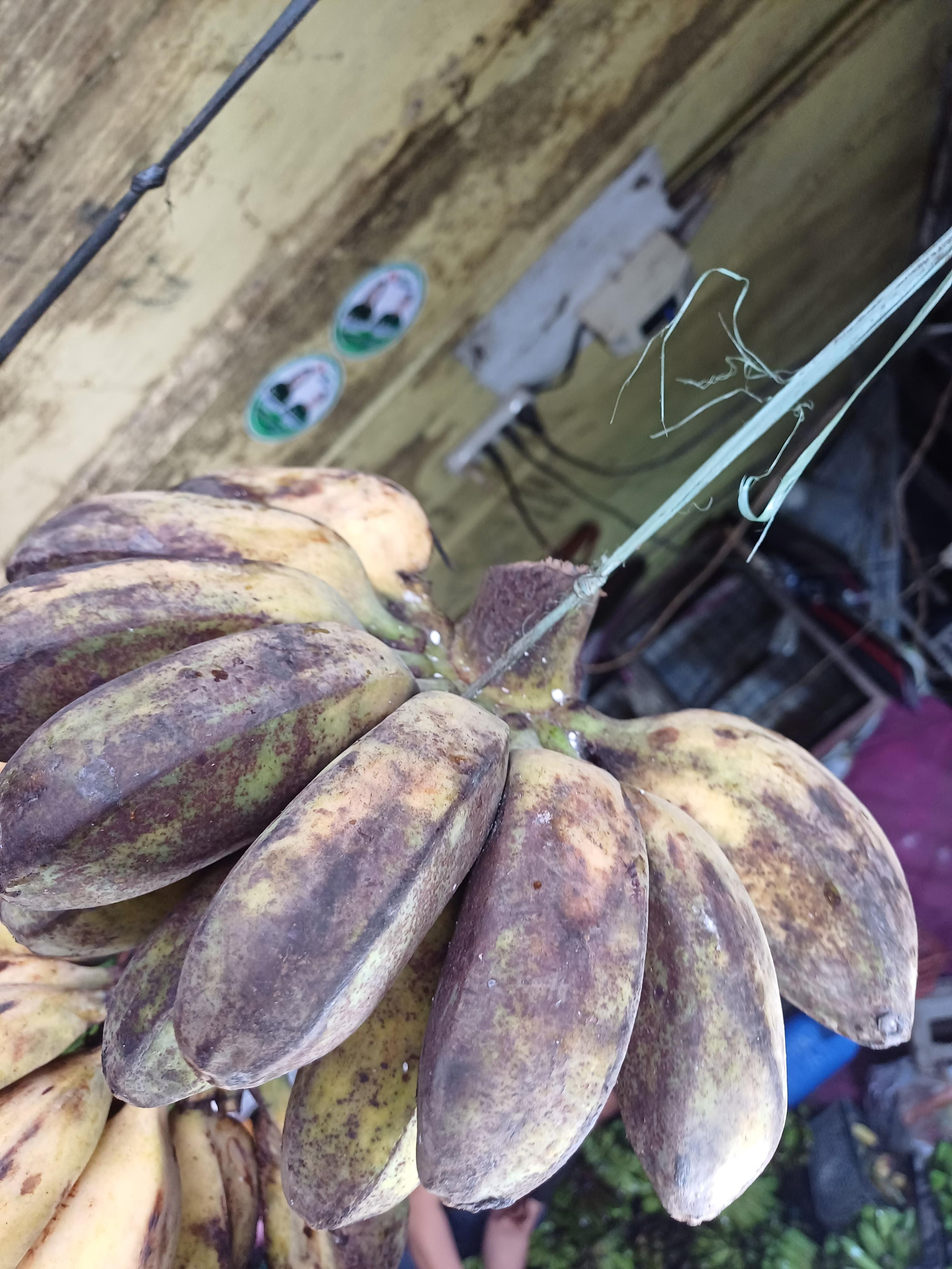ripe: (0, 927, 408, 1269)
underripe: (1, 468, 915, 1228)
